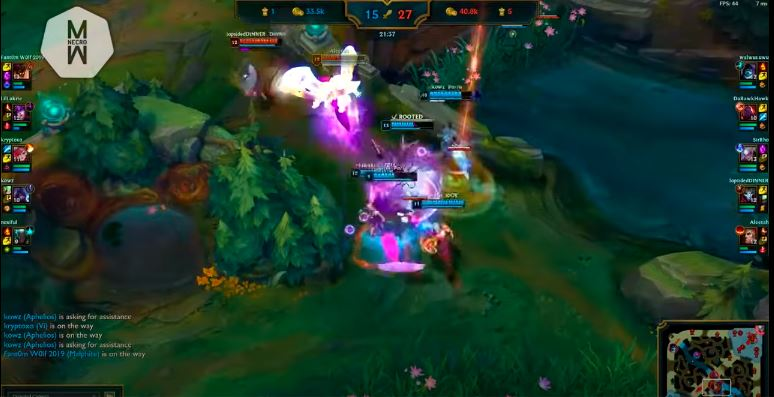bar: (416, 85, 479, 102), (310, 51, 371, 68), (378, 117, 436, 134), (410, 197, 467, 210), (228, 36, 286, 48), (350, 164, 401, 177), (366, 170, 421, 182)
